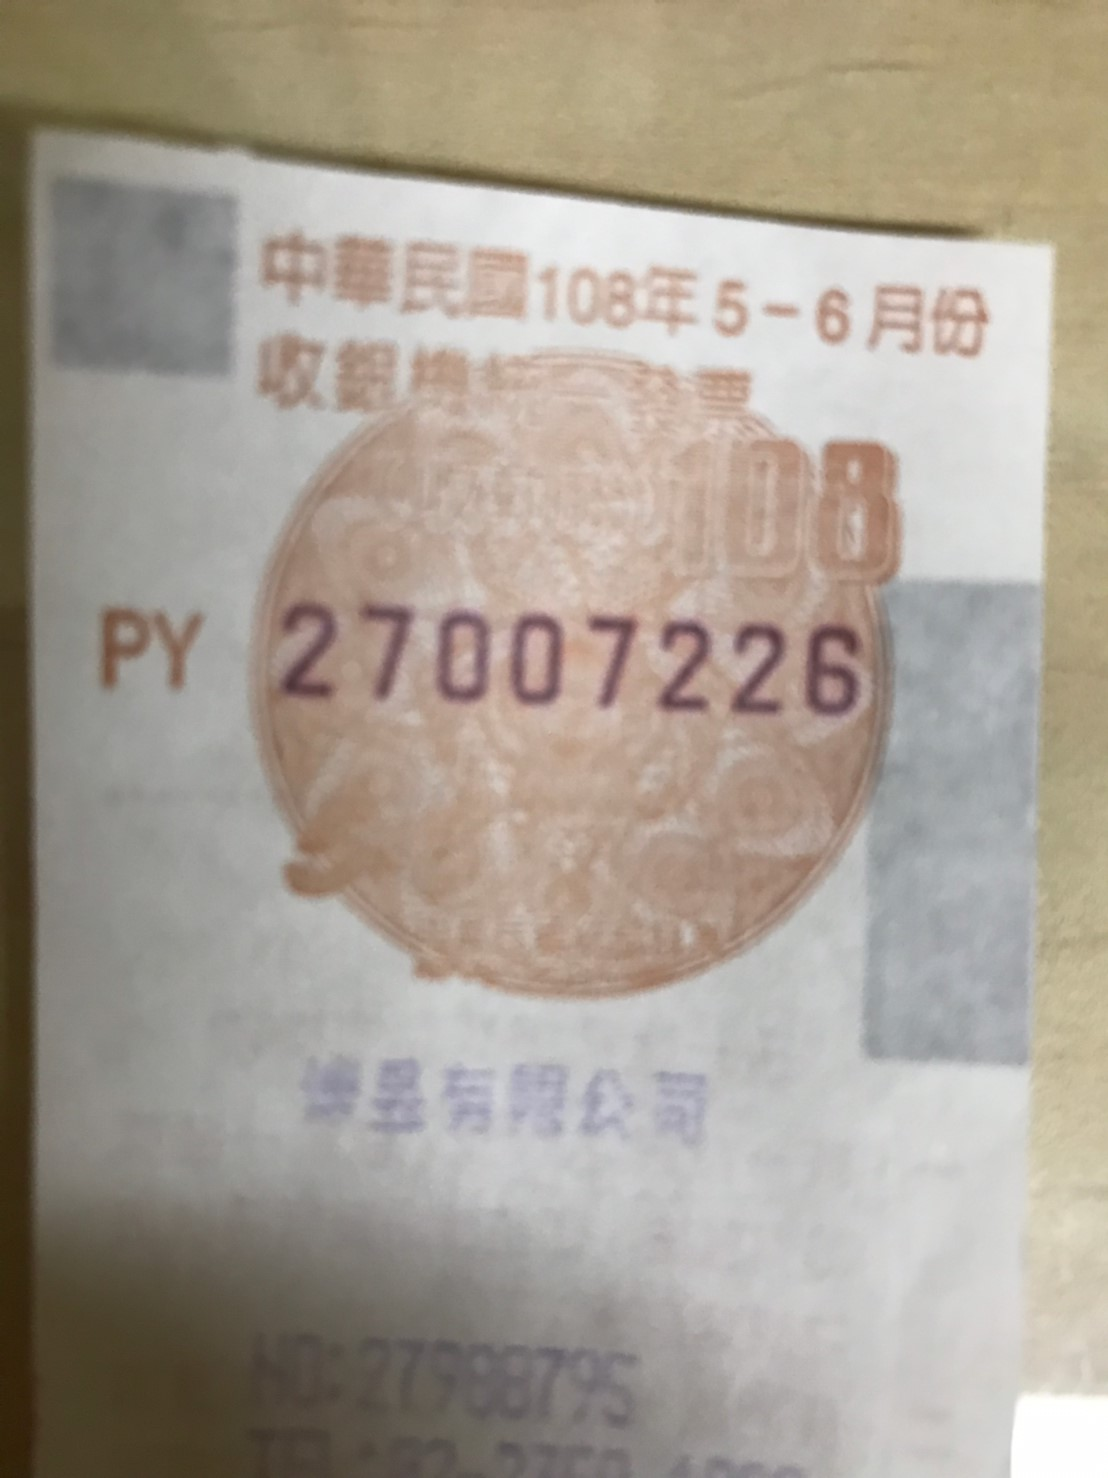Date_Old: (538, 248, 992, 370)
Number_Old: (277, 597, 869, 725)
